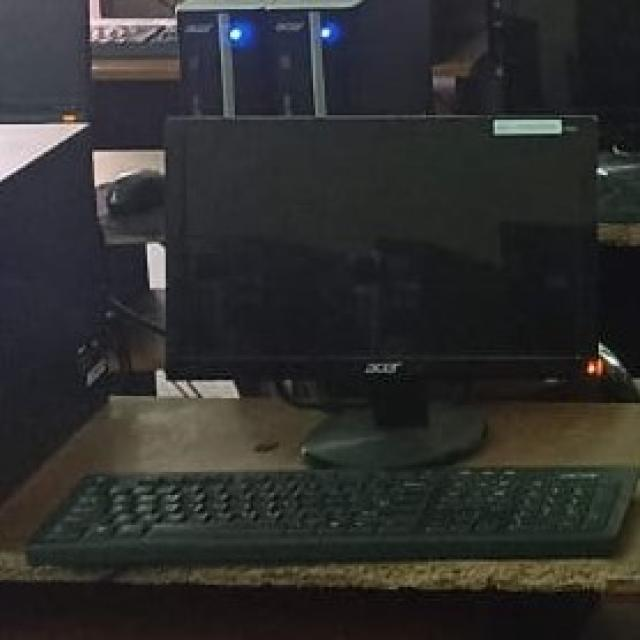onscreen: (170, 114, 597, 373)
